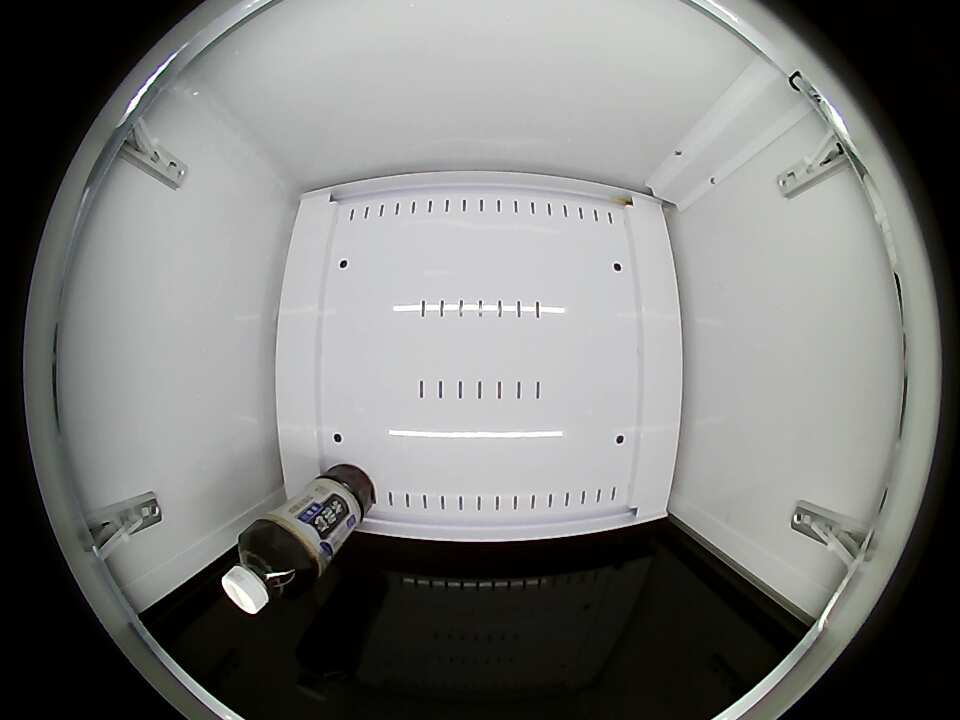wulongcha: (221, 523, 313, 615)
